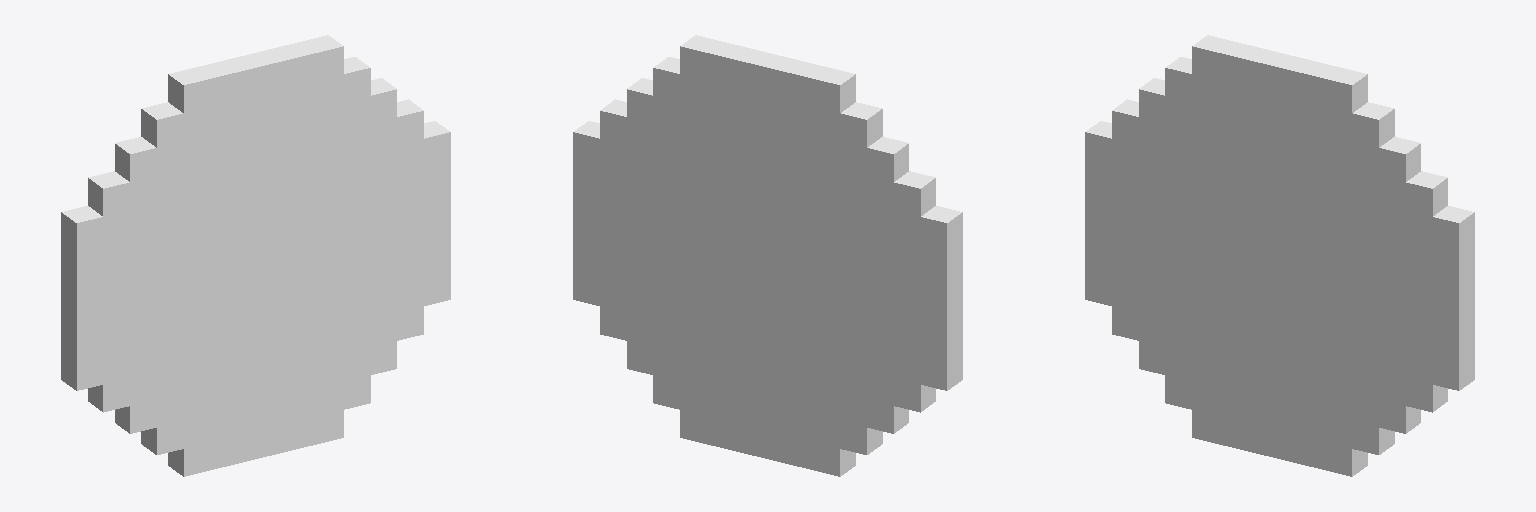
The model's file is Car2-0.obj.
The picture shows the model from 3 angles: view 1: azimuth 30°, elevation 25°; view 2: azimuth 150°, elevation 25°; view 3: azimuth 330°, elevation 25°; orthographic projection.
Visible parts, largest first — view 1: object 1; view 2: object 1; view 3: object 1.
Part boxes in pixels (bbox=[...]): object 1: bbox=[61, 35, 450, 476]; object 1: bbox=[573, 35, 962, 476]; object 1: bbox=[1085, 35, 1474, 476].
Size of the model in its own units: 1.4 by 1.4 by 0.1.